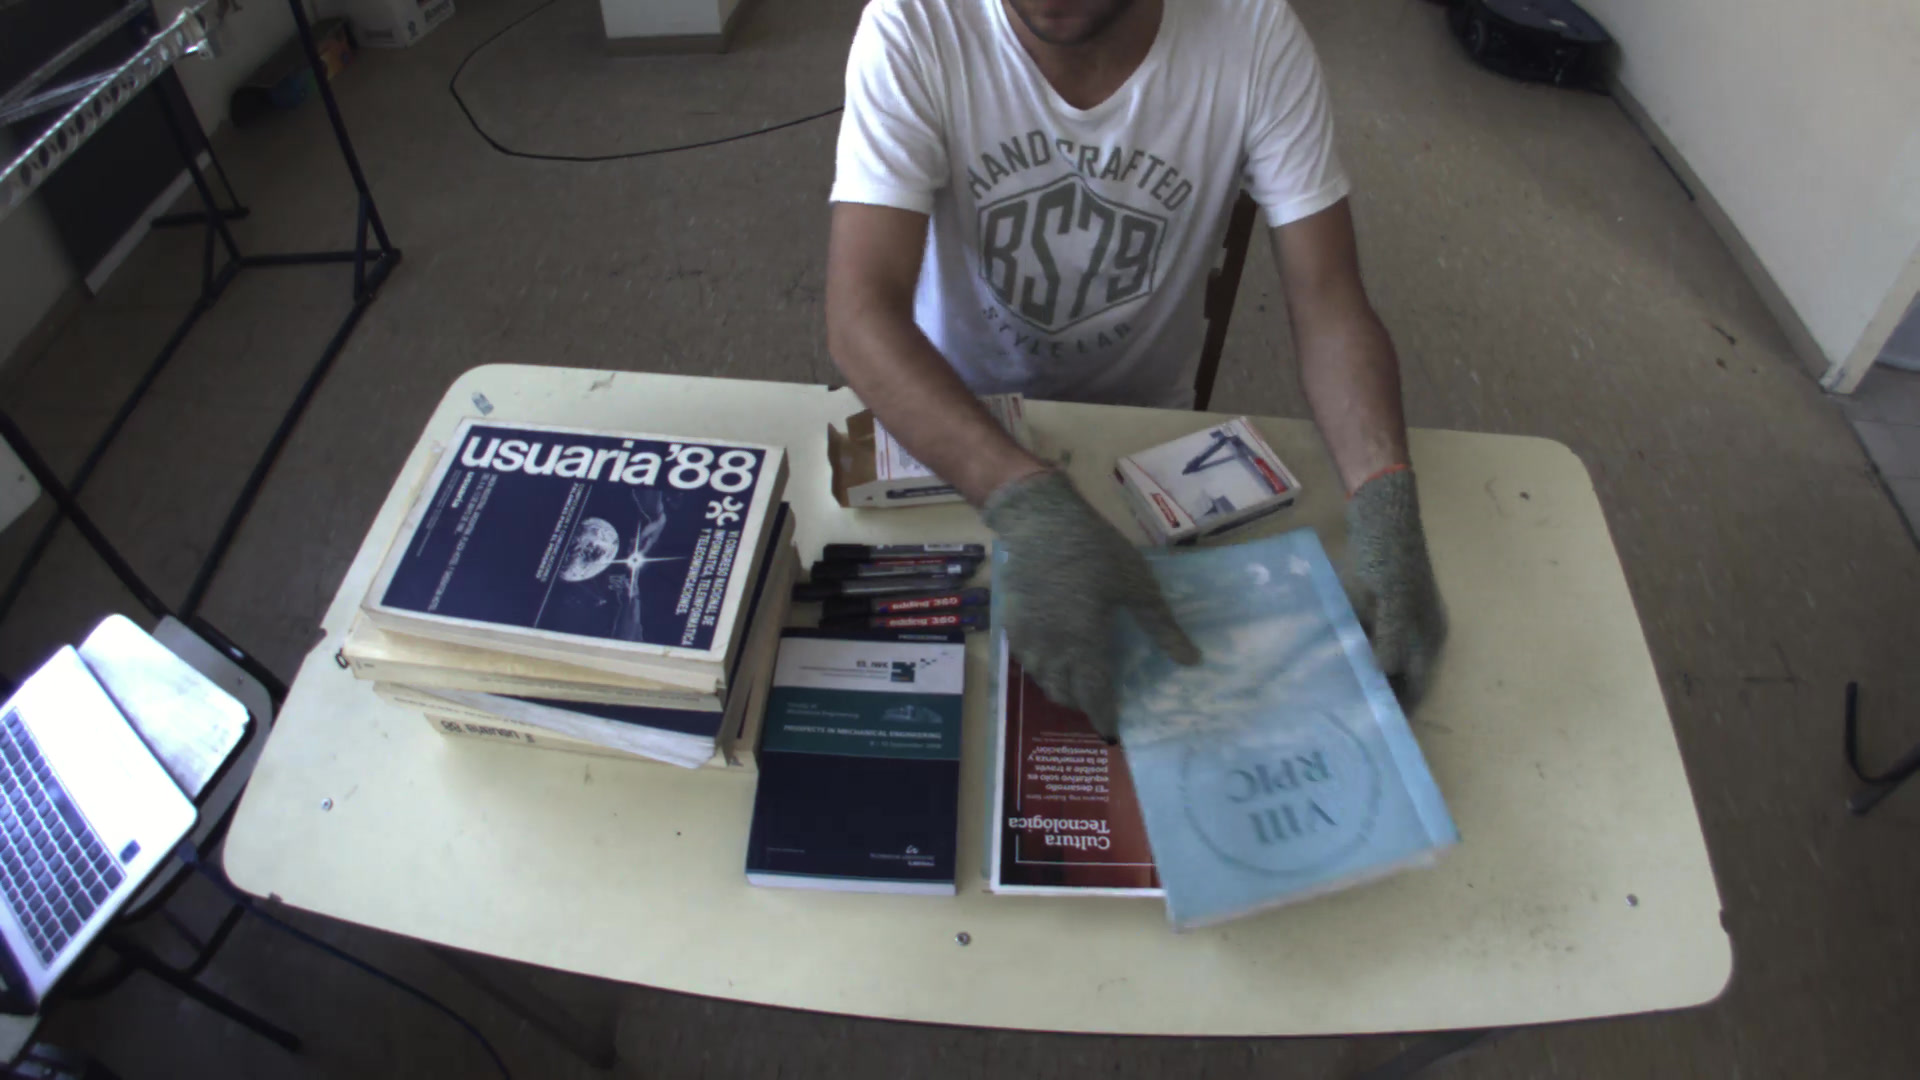hand: (948, 467, 1217, 723), (1316, 427, 1457, 713)
